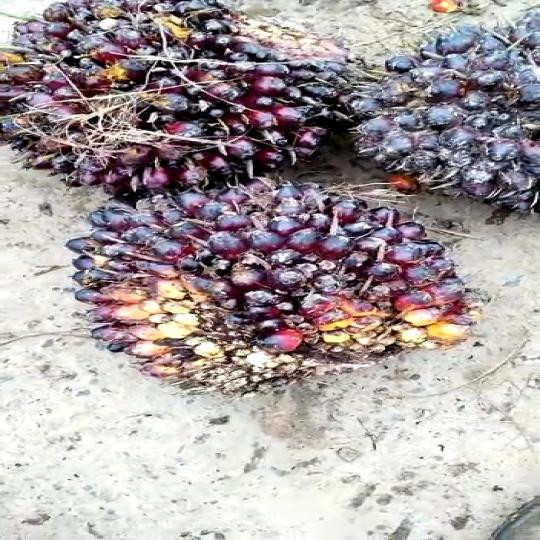kurang masak: (51, 185, 476, 395), (0, 6, 350, 190), (332, 9, 540, 220)
